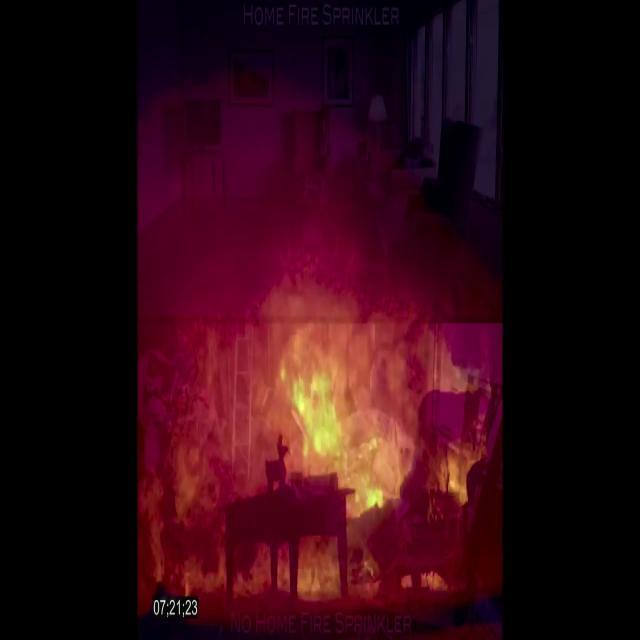Fire: (260, 306, 410, 523)
